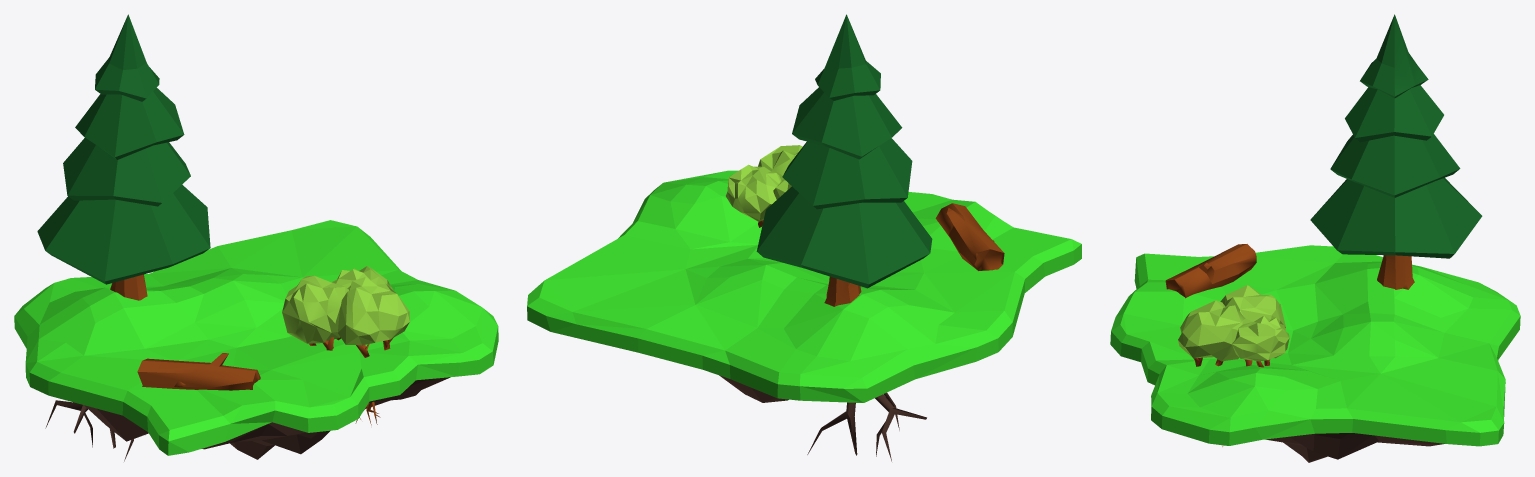
File: isla2.fbx
3 renders of one model, left to right at view 1: azimuth 30°, elevation 25°; view 2: azimuth 150°, elevation 25°; view 3: azimuth 270°, elevation 25°, orthographic. The views are drawn at different scales.
Parts seen in each view (by area): view 1: isla1; view 2: isla1; view 3: isla1.
Boxes of the visible parts, x1=… form: isla1: x1=14, y1=14, x2=498, y2=461; isla1: x1=527, y1=14, x2=1081, y2=461; isla1: x1=1110, y1=14, x2=1520, y2=462.
Bounding box in the file's own units: 2895 × 3004 × 2700.
